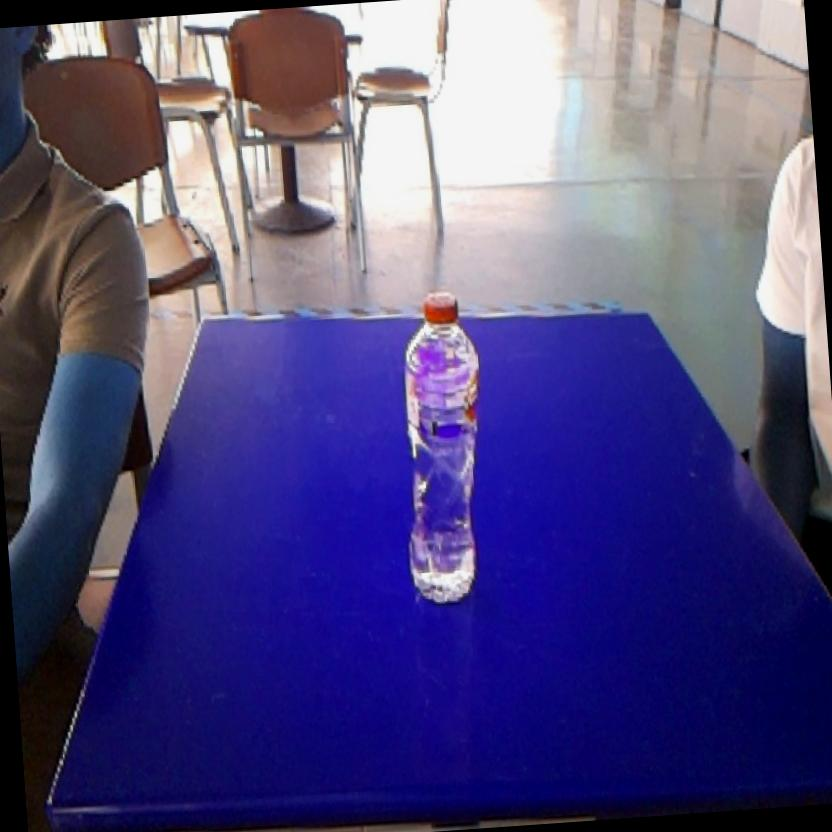good: (386, 269, 500, 619)
